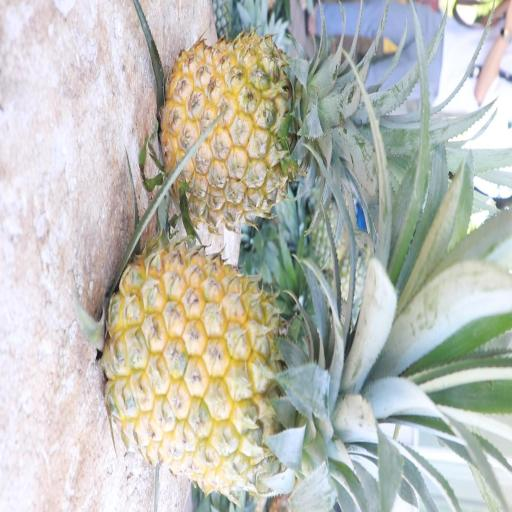Pineapple - v8 v1: (97, 240, 388, 501), (155, 26, 363, 240), (216, 154, 226, 158), (223, 112, 232, 112)
